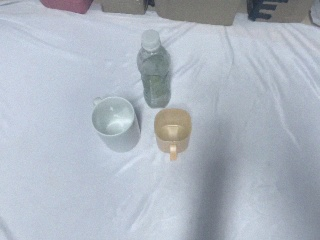bottle: (137, 30, 172, 109)
box: (153, 1, 243, 25), (247, 1, 320, 22)
cup: (91, 97, 141, 153), (154, 108, 192, 160)
